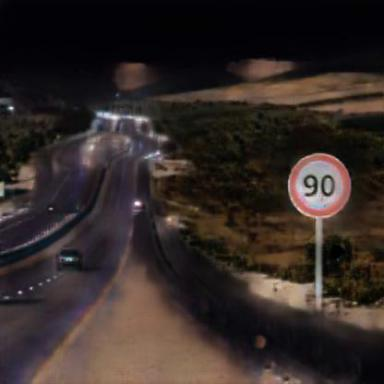Speed_limit_90: (289, 155, 350, 214)
